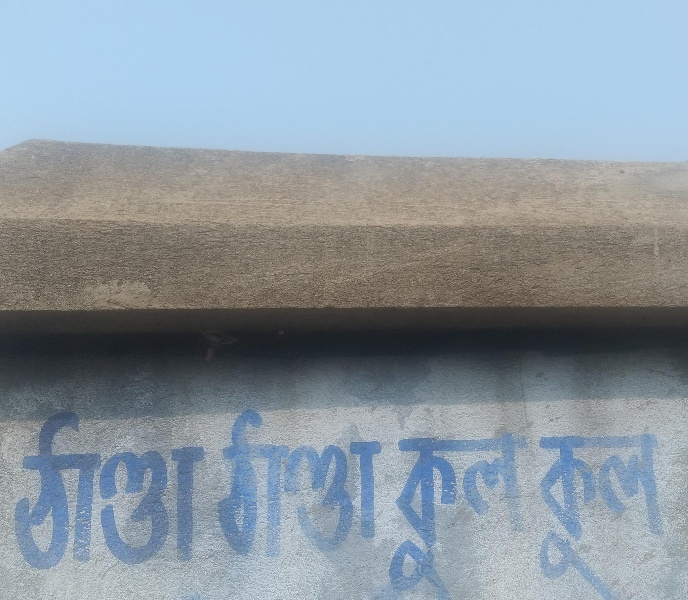text: (33, 407, 48, 577), (49, 407, 64, 577), (65, 407, 80, 577), (81, 407, 96, 577), (97, 407, 112, 577), (113, 407, 128, 577), (129, 407, 144, 577), (145, 407, 160, 577), (161, 407, 176, 577), (177, 407, 192, 577), (401, 430, 416, 597), (417, 430, 432, 597), (433, 430, 448, 597), (449, 430, 464, 597), (465, 430, 480, 597), (481, 430, 496, 597), (497, 430, 512, 597), (513, 430, 528, 597), (545, 432, 560, 597), (561, 432, 576, 597), (577, 432, 592, 597), (593, 432, 608, 597), (609, 432, 624, 597), (625, 432, 640, 597), (641, 432, 656, 597), (193, 407, 207, 577), (225, 403, 240, 561), (241, 403, 256, 561), (257, 403, 272, 561), (273, 403, 288, 561), (289, 403, 304, 561), (305, 403, 320, 561), (321, 403, 336, 561), (337, 403, 352, 561), (353, 403, 368, 561), (369, 403, 384, 561), (20, 407, 32, 577), (657, 432, 669, 597), (529, 430, 537, 597), (539, 432, 544, 597), (219, 403, 224, 561), (398, 430, 400, 597)
